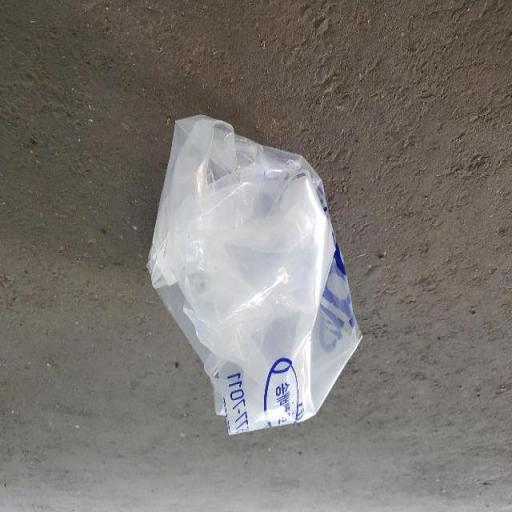plastic-bag: (144, 111, 366, 438)
